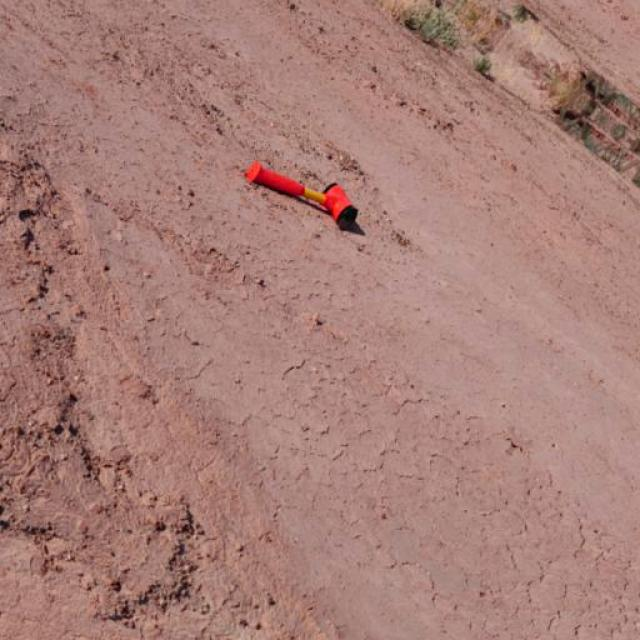mallet: (242, 159, 358, 229)
